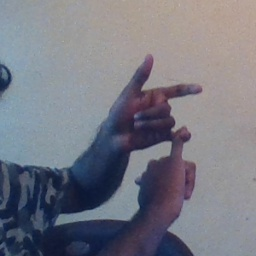S: (103, 50, 215, 212)
